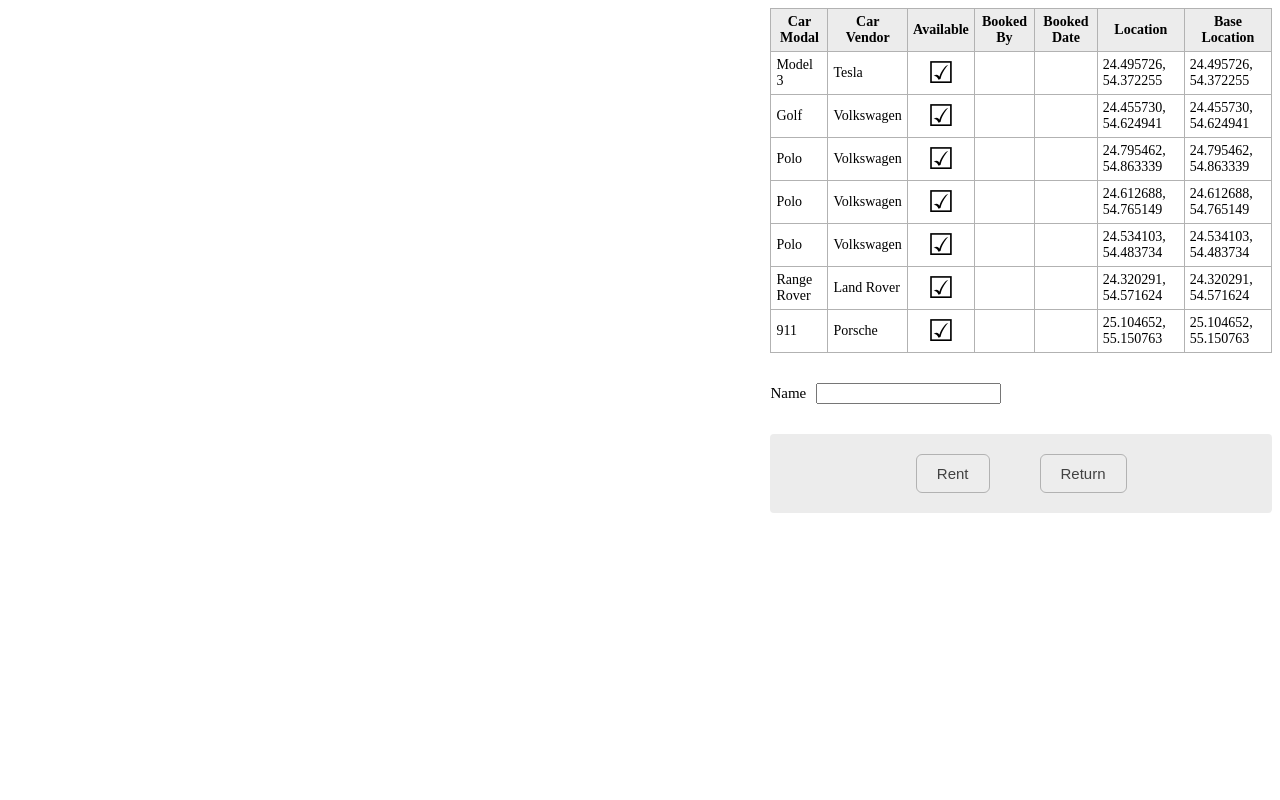
it: Table component tests › Should add Booked By value to table after rent
Step 1. Type "Alex" into the field labelled "Name" → (909, 394), box [816, 383, 1001, 404]
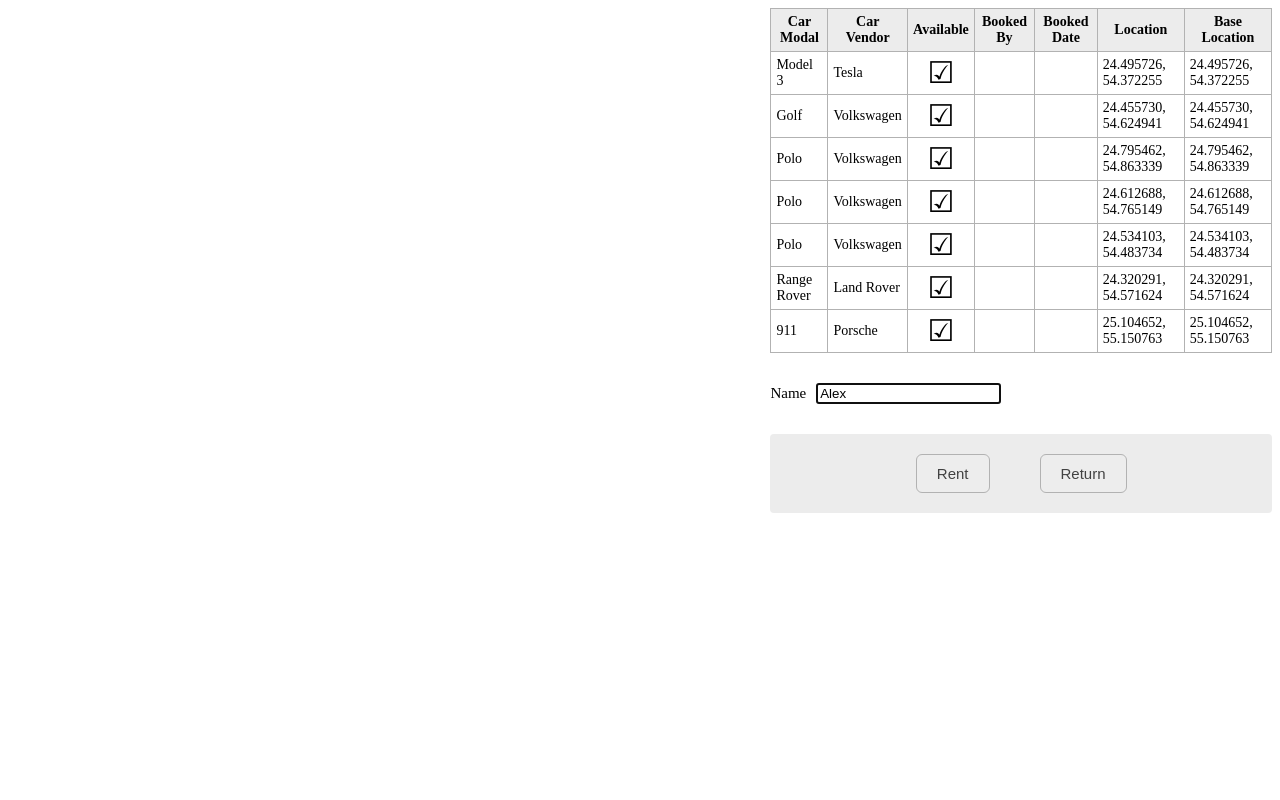
Step 2. Click the row with test id "table-row-element-0" → (1021, 73), box [771, 52, 1272, 94]
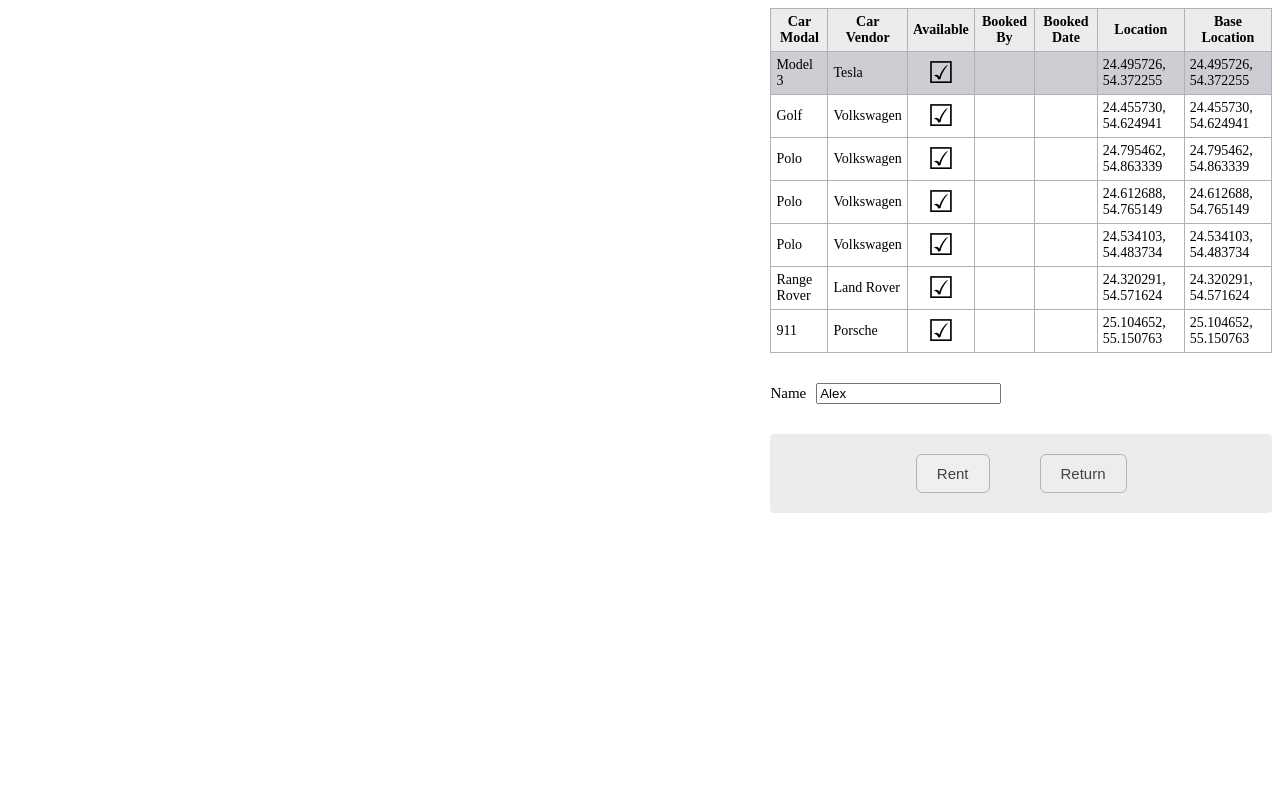
Step 3. Click the button "rent" → (953, 474), box [916, 454, 990, 493]
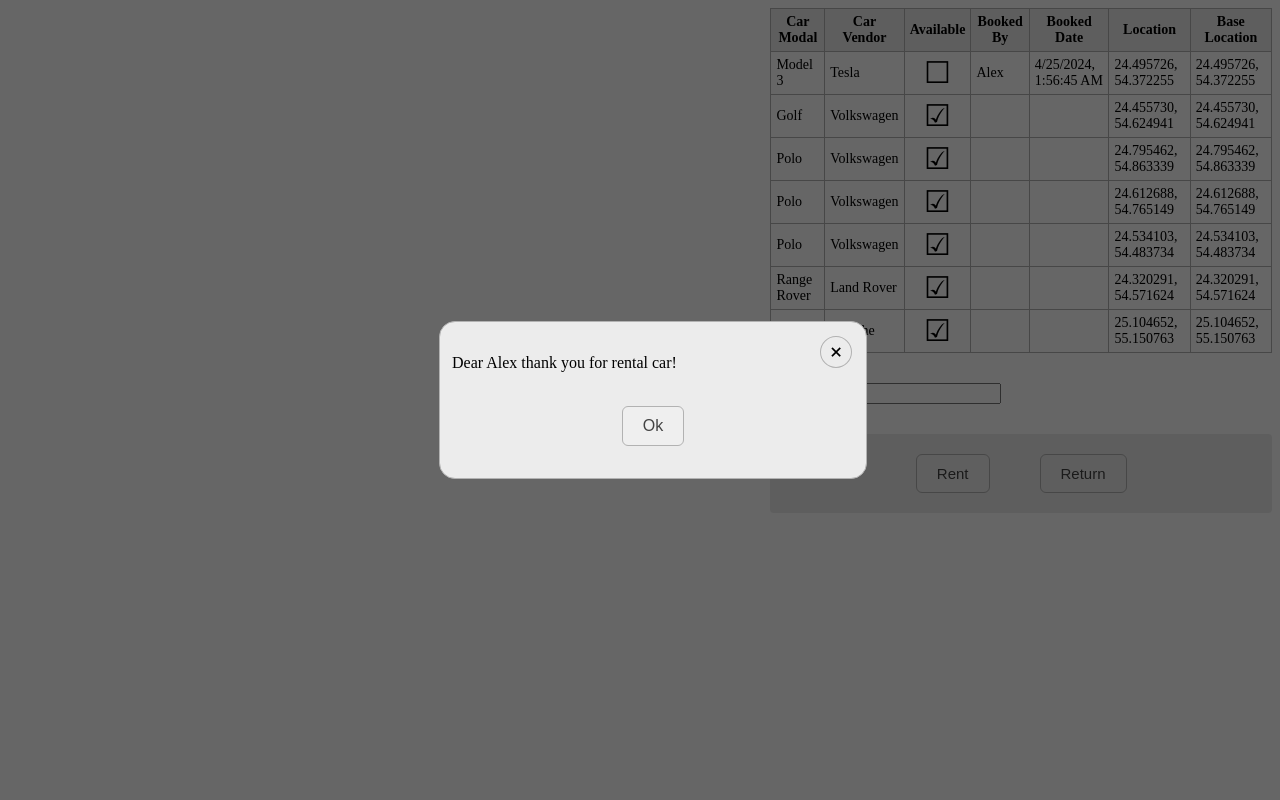
Result: the cell with test id "table-cell-booked" reads "Alex" at [976, 65, 1004, 80]
